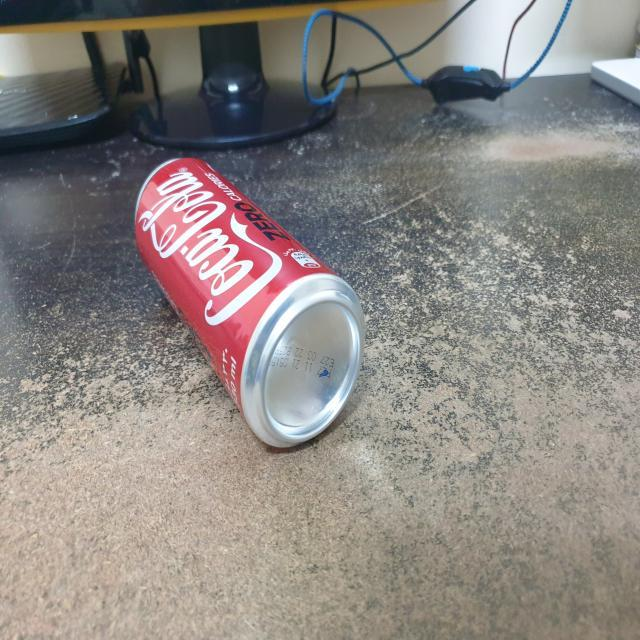can: (124, 149, 376, 458)
